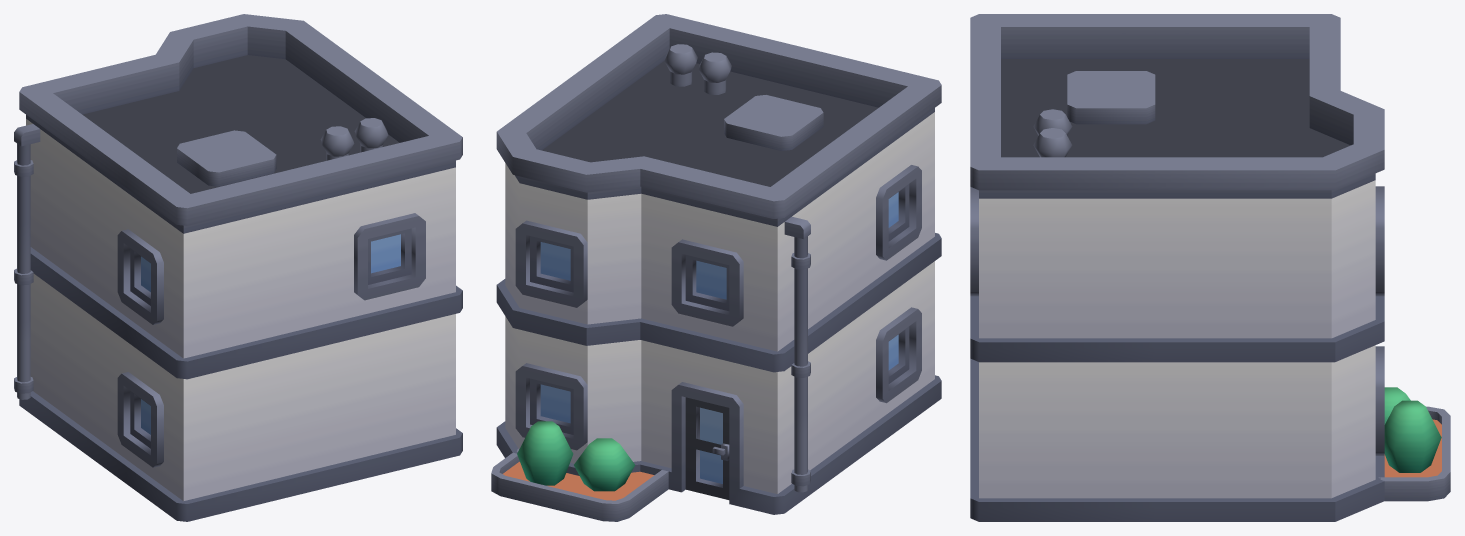
The model's file is building-c.glb.
3 views of the same model, side by side, from view 1: azimuth 30°, elevation 25°; view 2: azimuth 150°, elevation 25°; view 3: azimuth 270°, elevation 25° (orthographic). The views are drawn at different scales.
Parts seen in each view (by area): view 1: building-c; view 2: building-c; view 3: building-c.
Part boxes in pixels (box(x1,y1,x2,y2)): building-c: box(14, 14, 462, 521); building-c: box(491, 14, 941, 521); building-c: box(970, 14, 1450, 521).
Bounding box in the file's own units: 0.8836 × 0.8931 × 1.09.
1 material, 1 textured.
